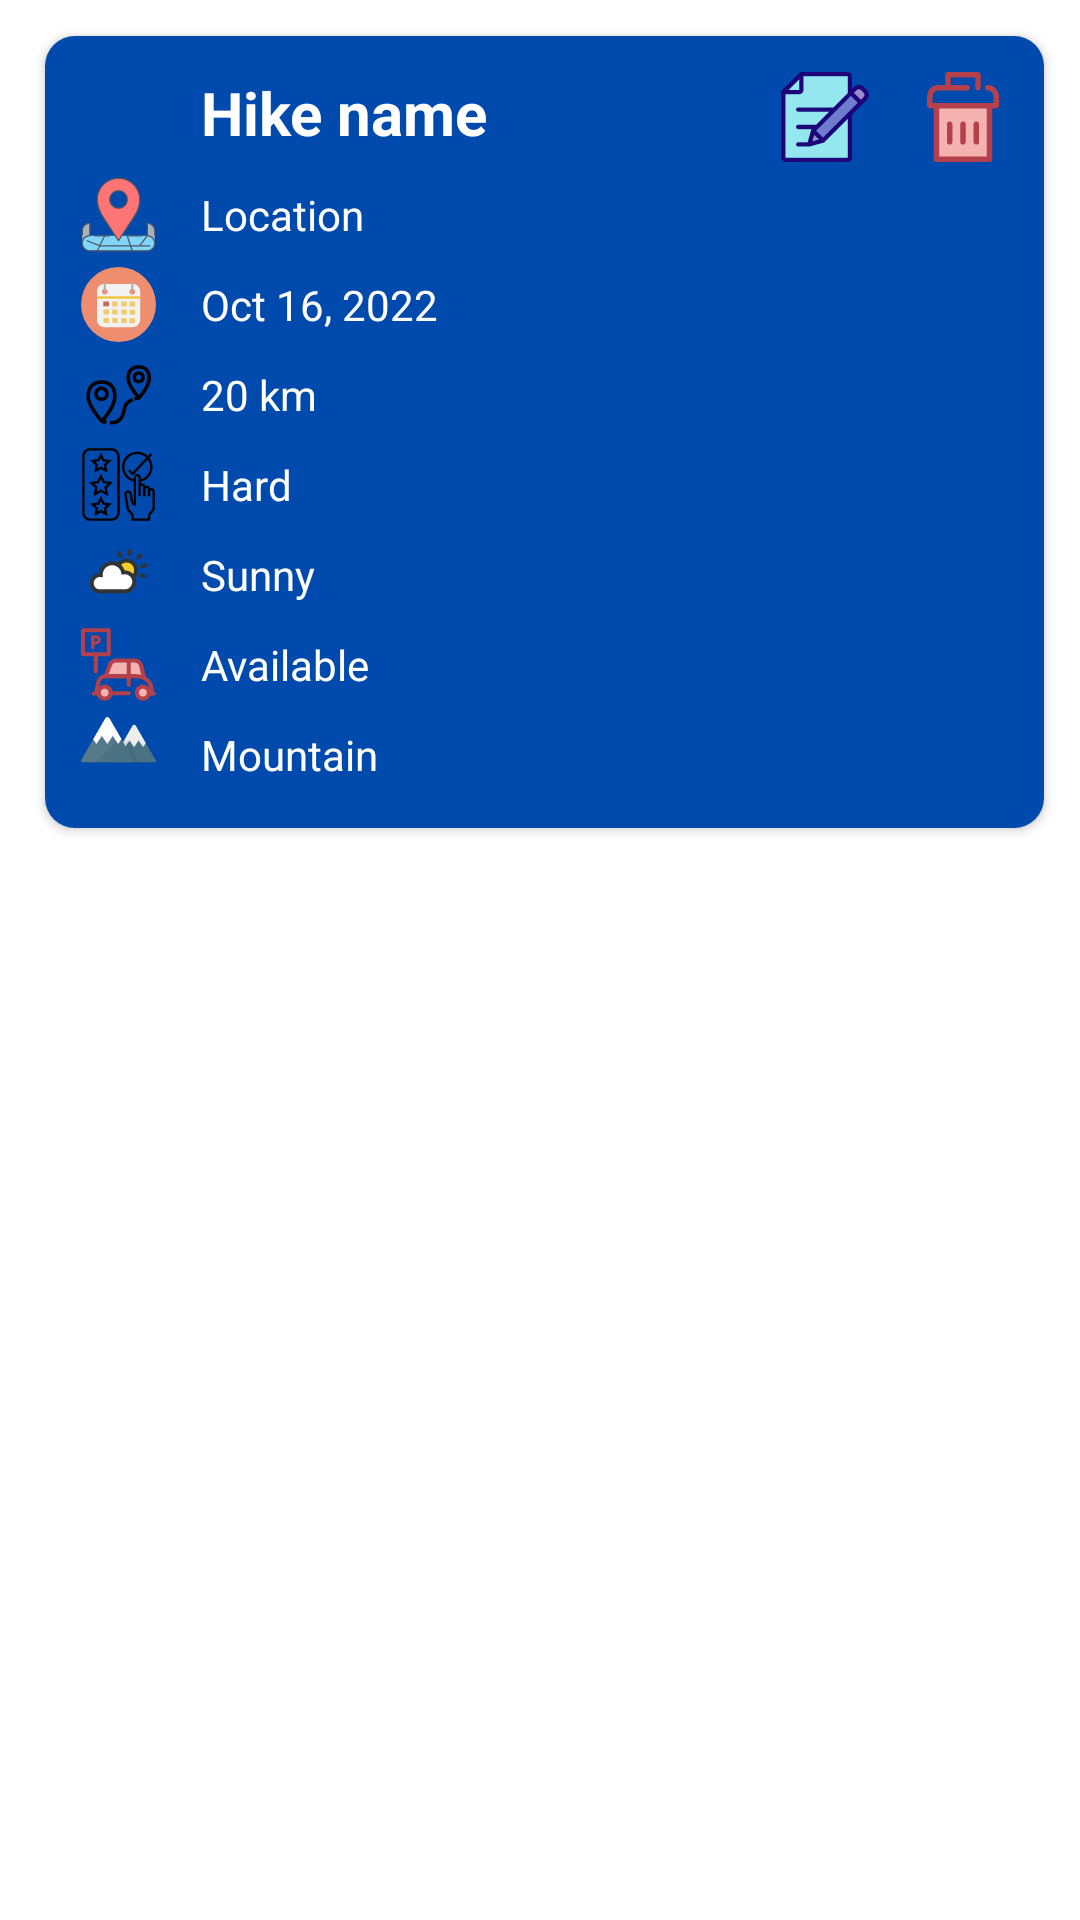

Icons on this 1080px x 1920px Android screen, each with the point to tap as point (x, y):
calendar: point (118, 304)
delete: point (963, 117)
distance: point (118, 395)
edit: point (825, 117)
level difficulty: point (118, 484)
weather: point (118, 571)
